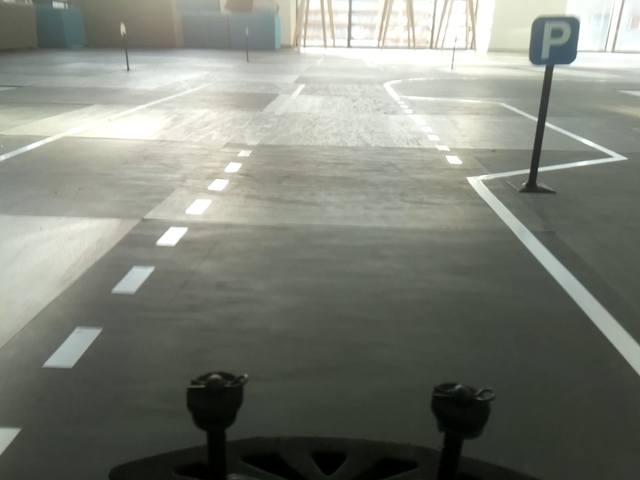parking: (528, 15, 579, 64)
